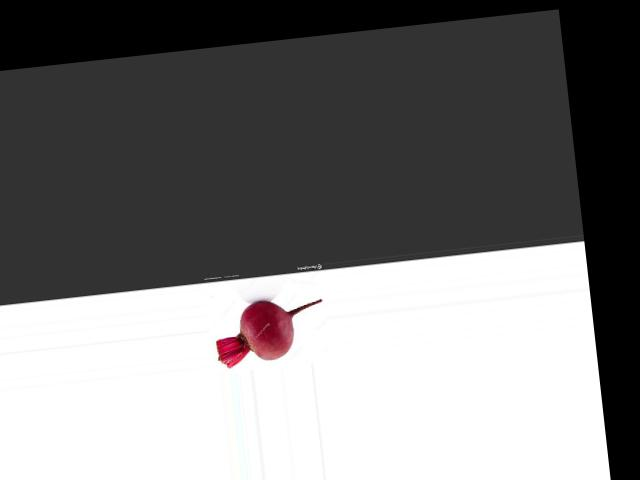beet: (211, 294, 327, 368)
